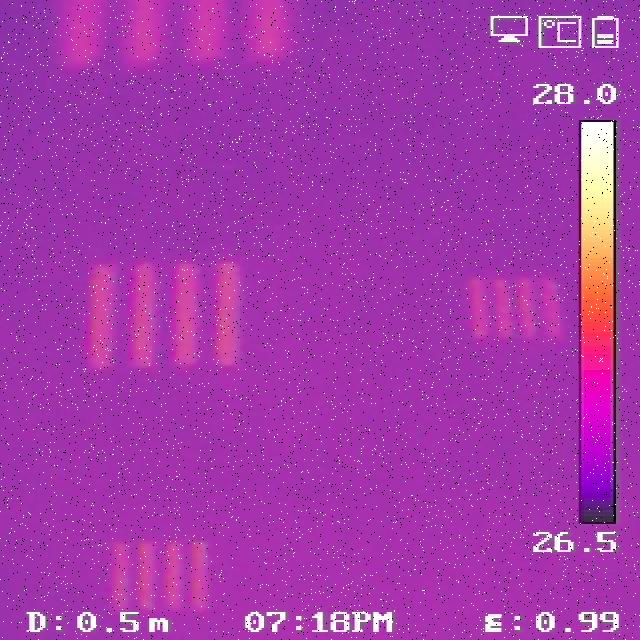Distinguishable 4-bar target: (85, 261, 243, 367), (56, 0, 296, 65), (105, 539, 214, 611), (464, 276, 568, 342)
